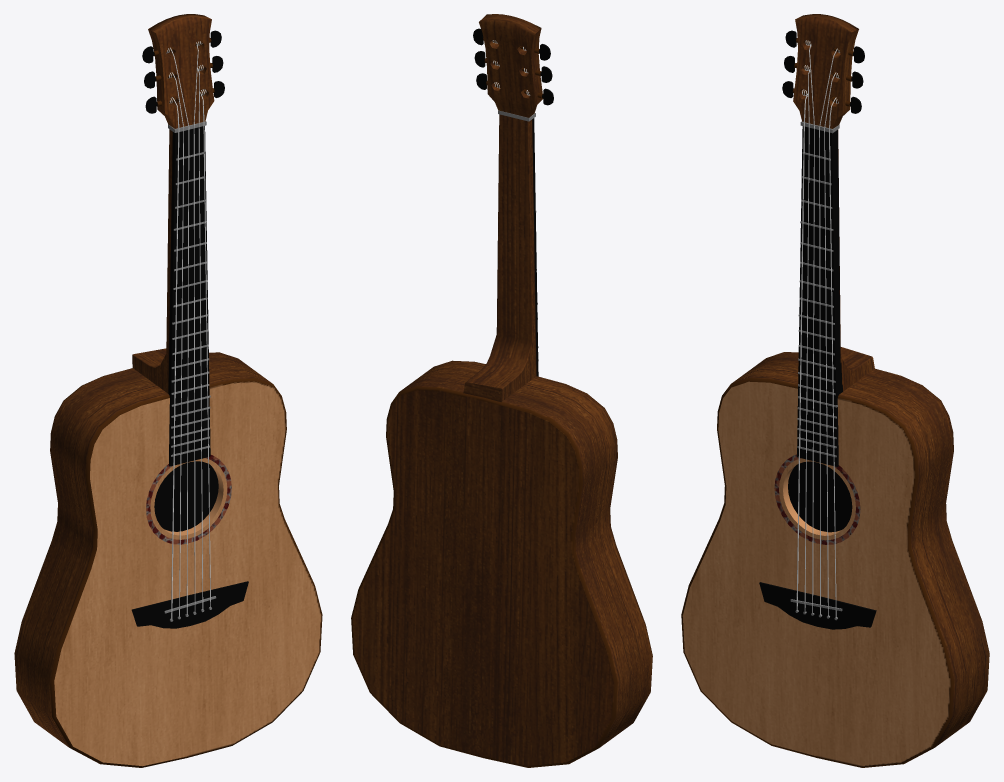
The model's file is Guitar_2_1k.fbx.
3 views of the same model, side by side, from view 1: azimuth 30°, elevation 25°; view 2: azimuth 150°, elevation 25°; view 3: azimuth 330°, elevation 25° (orthographic). The views are drawn at different scales.
Visible parts, largest first — view 1: Guitar_2_1k; view 2: Guitar_2_1k; view 3: Guitar_2_1k.
Boxes of the visible parts, <box> form: Guitar_2_1k: <box>14,14,322,767</box>; Guitar_2_1k: <box>351,14,652,767</box>; Guitar_2_1k: <box>681,14,989,767</box>.
Bounding box in the file's own units: 38.4 × 99.09 × 9.85.
Materials: 1 (1 with a texture image).
